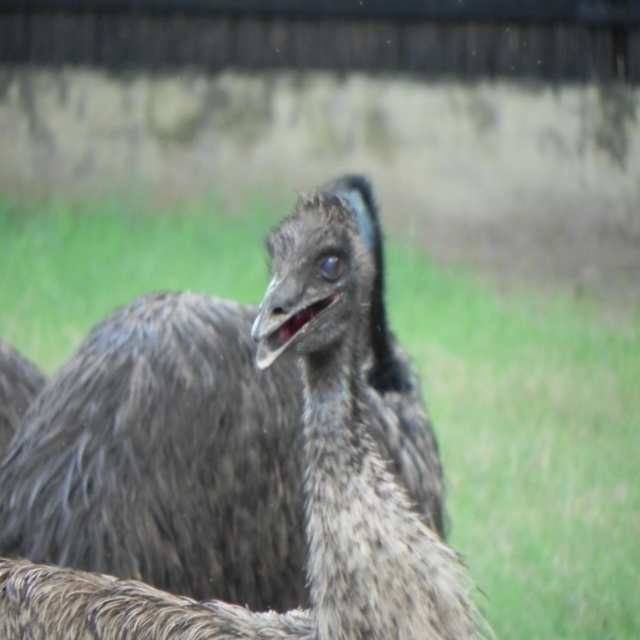Ostrich: (0, 190, 504, 640)
